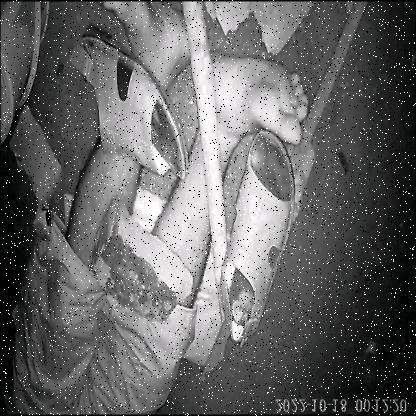leg: (154, 42, 318, 278)
